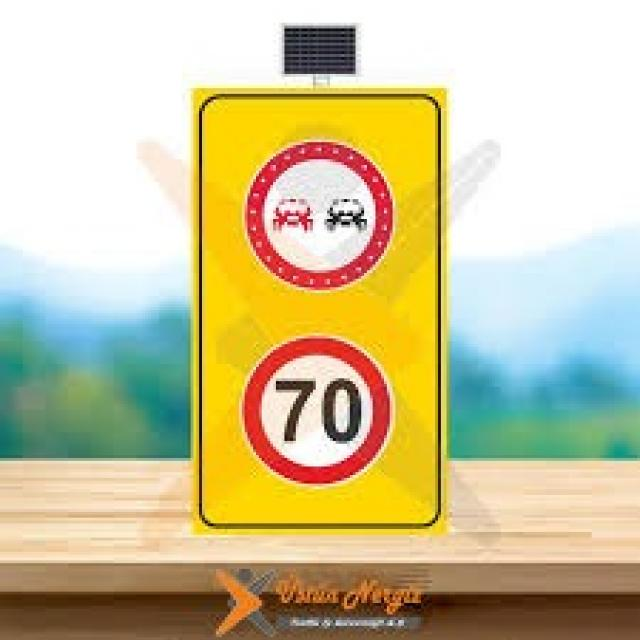speed_limit_70: (238, 331, 408, 493)
